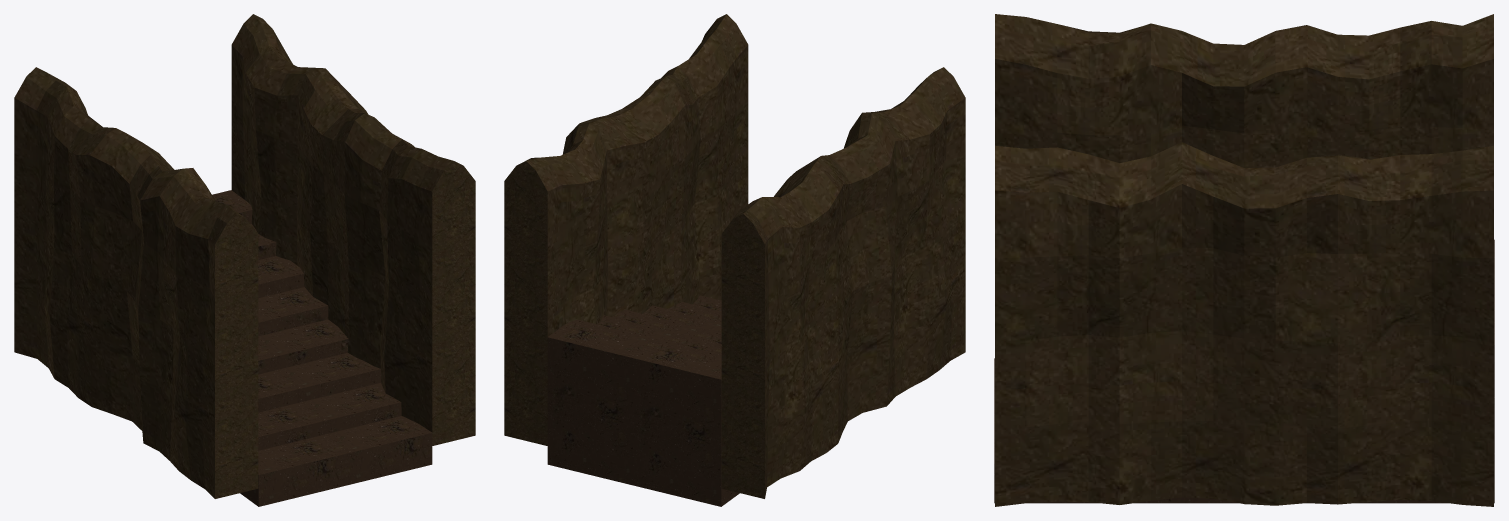
File: cave_stairs_01_dirt.glb
3 renders of one model, left to right at view 1: azimuth 30°, elevation 25°; view 2: azimuth 150°, elevation 25°; view 3: azimuth 270°, elevation 25°, orthographic. The views are drawn at different scales.
Parts seen in each view (by area): view 1: cave_stairs_01_dirt; view 2: cave_stairs_01_dirt; view 3: cave_stairs_01_dirt.
Boxes of the visible parts, x1,y1,x2,y2 form: cave_stairs_01_dirt: [14, 14, 475, 506]; cave_stairs_01_dirt: [504, 14, 965, 506]; cave_stairs_01_dirt: [994, 14, 1494, 506].
Bounding box in the file's own units: 3.09 × 3.28 × 4.01.
Materials: 2 (2 with a texture image).
